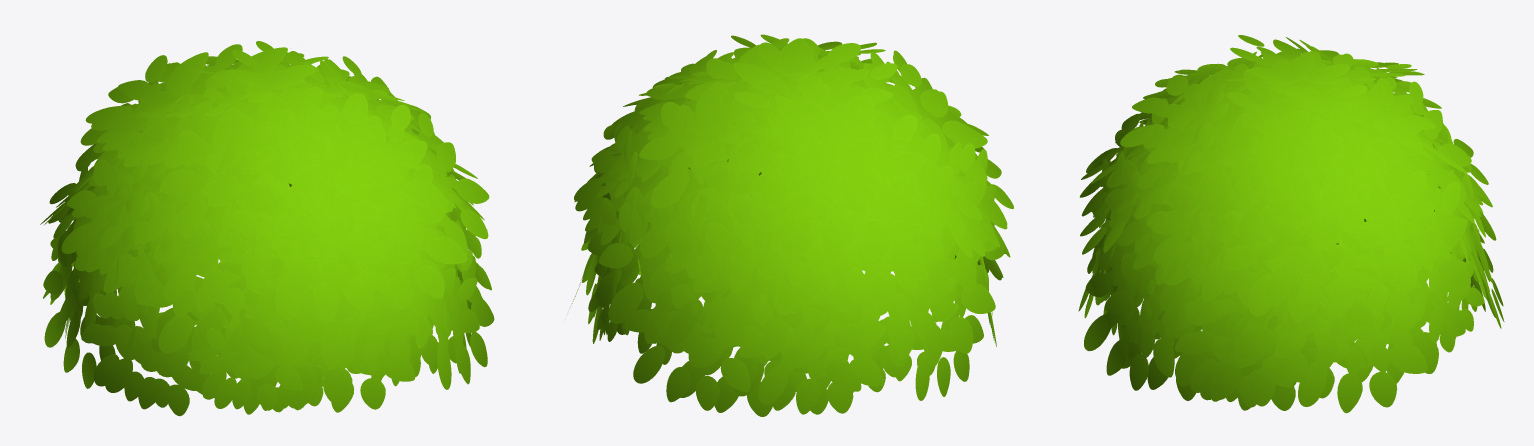
Rendered from bush.glb.
3 views of the same model, side by side, from view 1: azimuth 30°, elevation 25°; view 2: azimuth 150°, elevation 25°; view 3: azimuth 270°, elevation 25° (orthographic). The views are drawn at different scales.
Parts seen in each view (by area): view 1: Bush; view 2: Bush; view 3: Bush.
Boxes of the visible parts, bbox=[...] form: Bush: bbox=[40, 41, 494, 416]; Bush: bbox=[567, 34, 1013, 416]; Bush: bbox=[1078, 35, 1504, 413].
Bounding box in the file's own units: 1.09 × 0.6916 × 1.05.
1 material, 1 textured.
